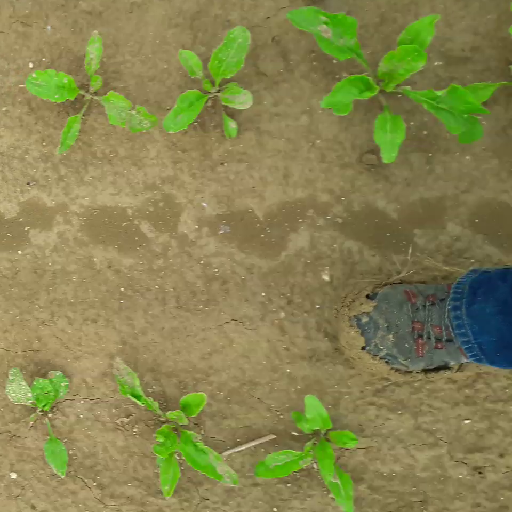sugarbeet: (282, 1, 512, 169), (107, 352, 242, 496), (17, 27, 162, 156), (254, 392, 363, 512), (159, 21, 256, 145), (3, 364, 73, 486)
